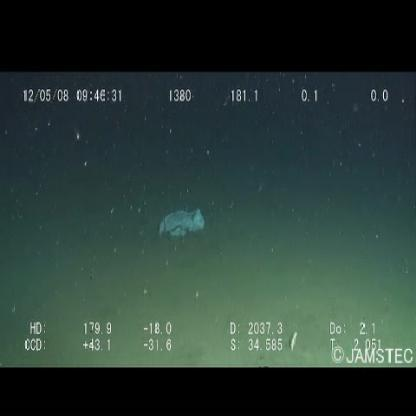Rác: (158, 207, 206, 241)
